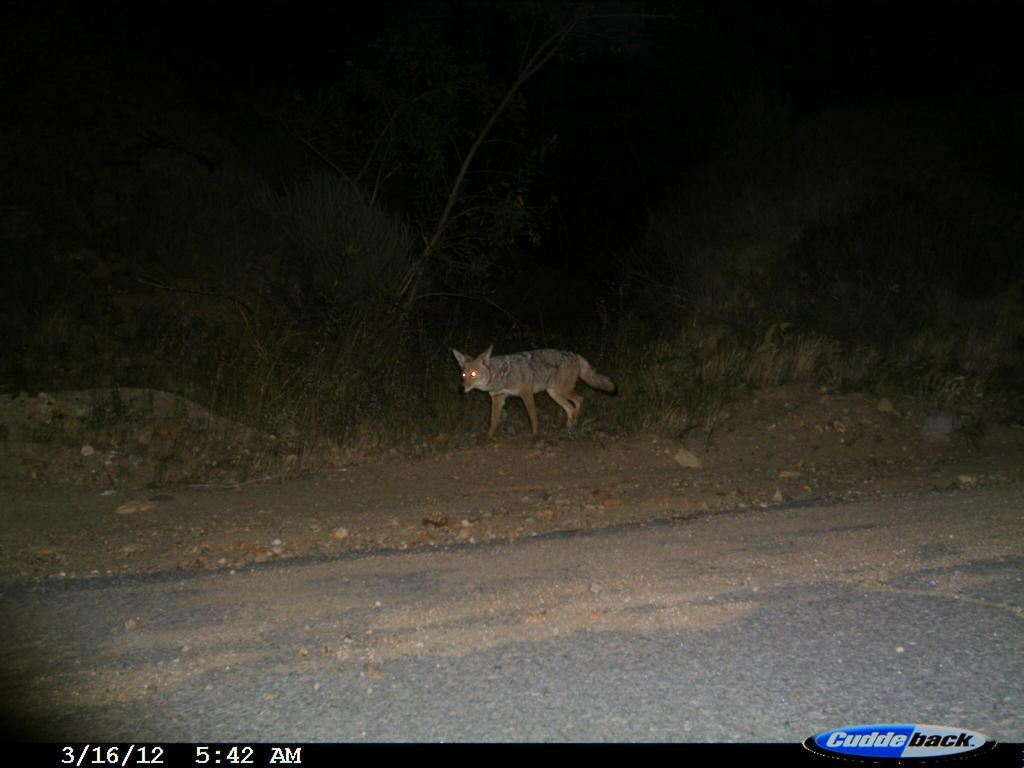coyote: (438, 329, 632, 454)
